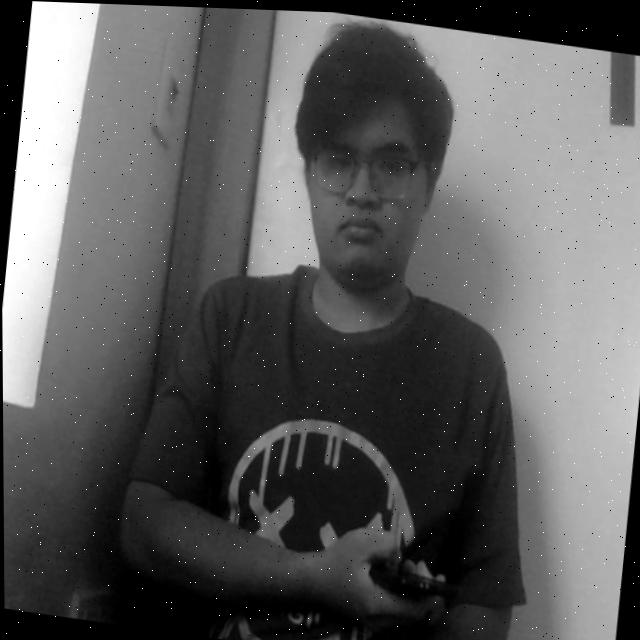phone: (355, 531, 463, 631)
